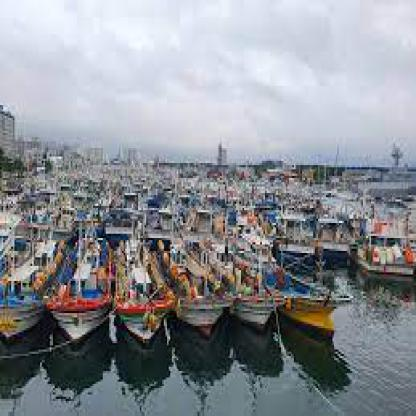fish-b: (273, 244, 357, 341), (44, 238, 112, 345), (2, 233, 48, 352), (113, 249, 168, 345), (178, 244, 230, 341), (231, 242, 275, 335)
